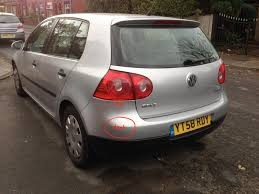Dent: (36, 71, 55, 87)
